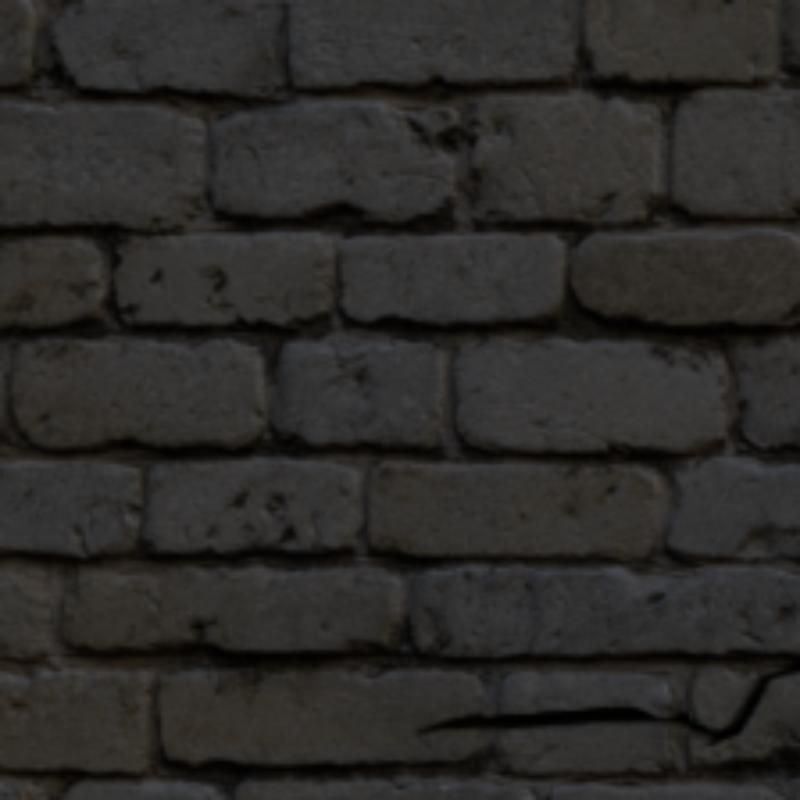crack: (668, 657, 796, 743), (418, 707, 668, 729)
